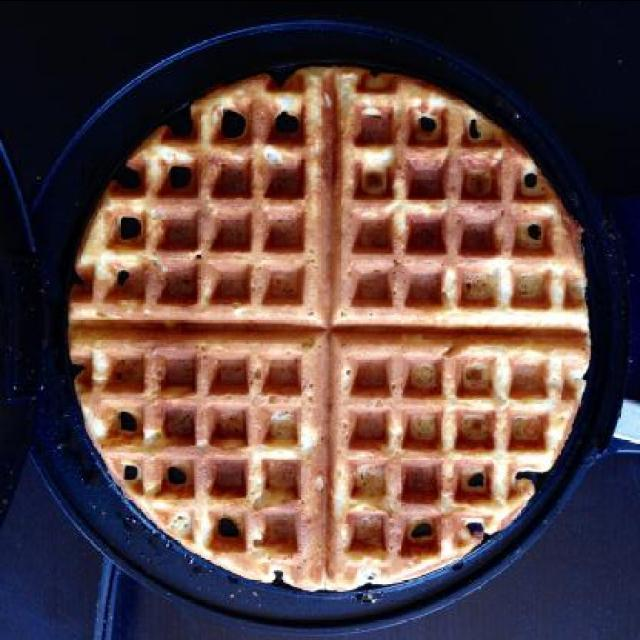Waffle: (68, 66, 592, 592)
